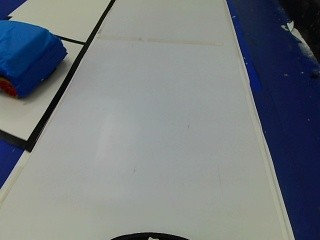car: (0, 15, 67, 101)
